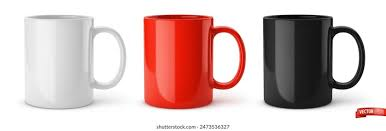mug: (257, 7, 375, 117), (14, 13, 132, 121), (139, 10, 248, 118)
